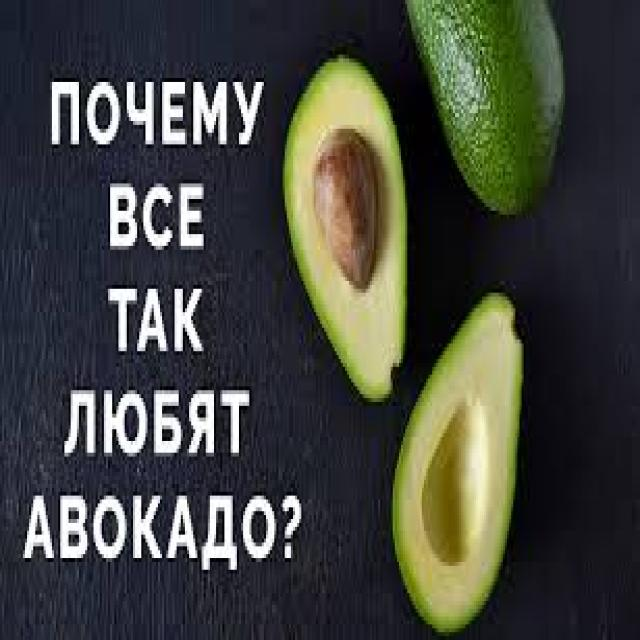avocado: (382, 269, 530, 634), (394, 0, 616, 239), (276, 42, 400, 406)
